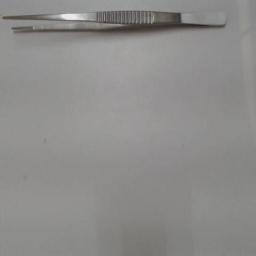DeBakey Dissector: (2, 0, 244, 52)
